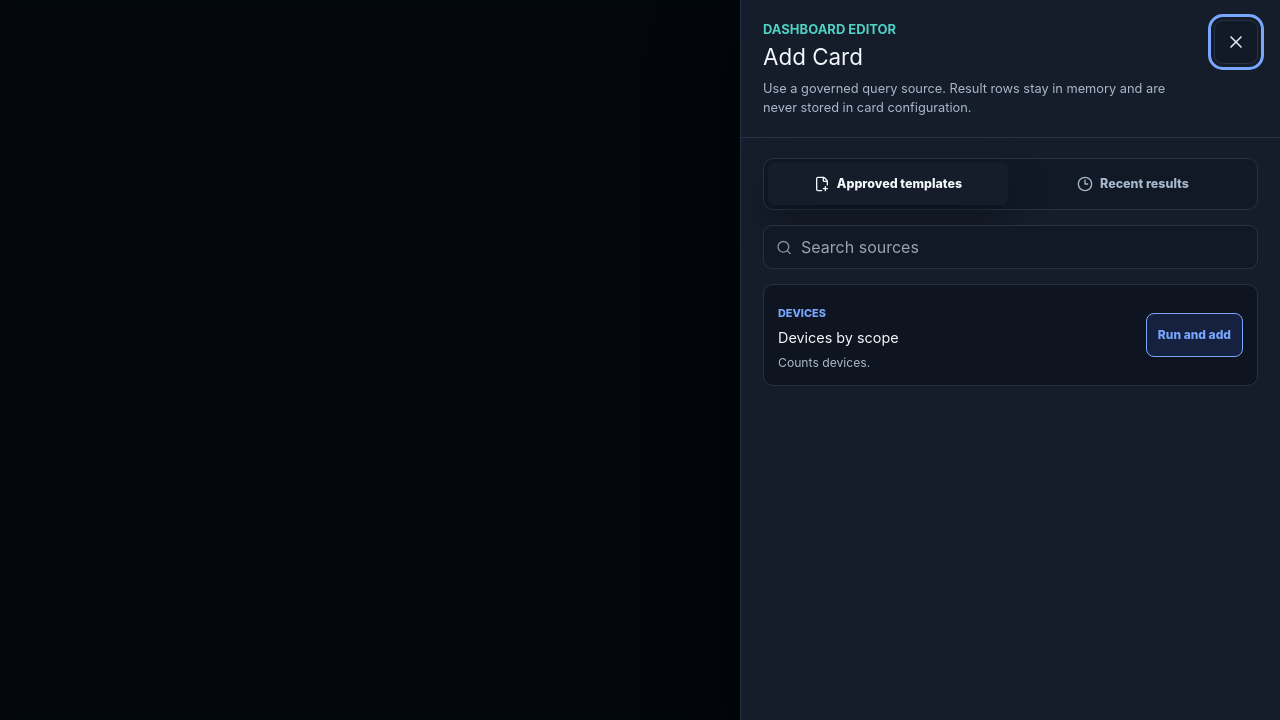
Test: AddCardDrawer › distinguishes a save failure after a successful query
The width and height of the screenshot is (1280, 720).
Click the button "Run and add" at (1194,335), box [1146, 313, 1243, 357]
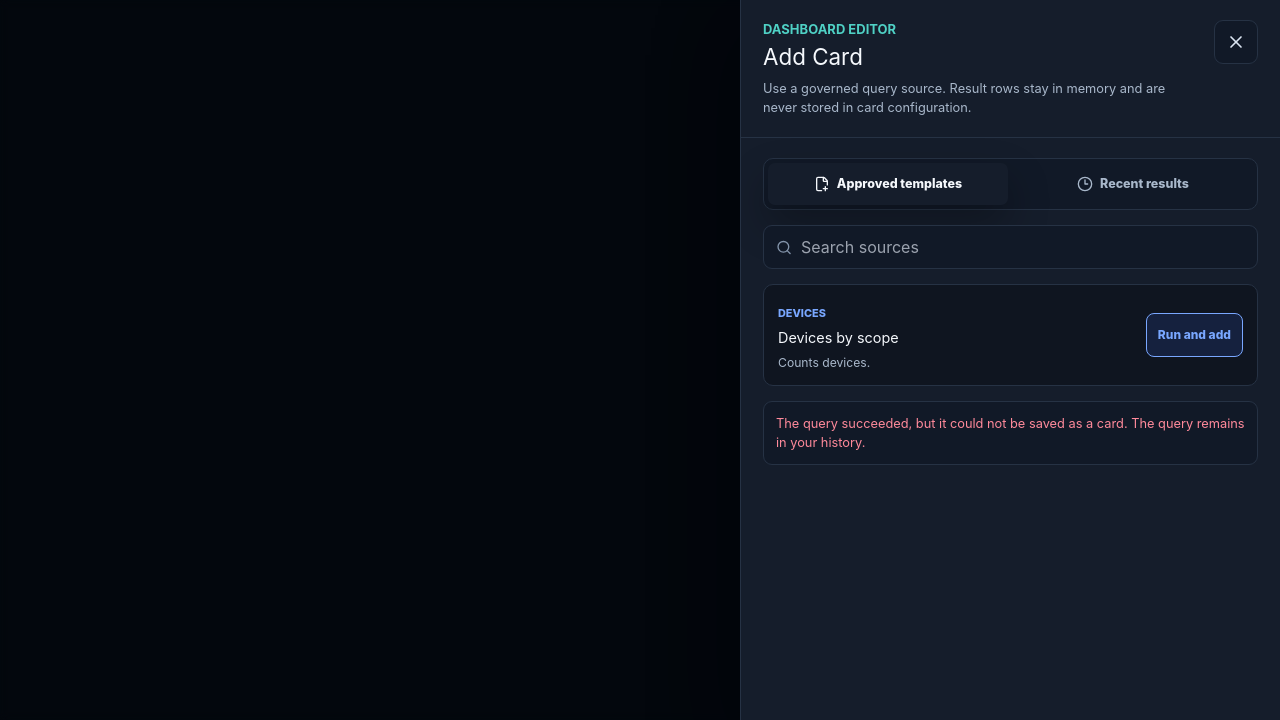
Expected: the message shows "query succeeded, but it could not be saved", [776, 416, 1245, 450]
